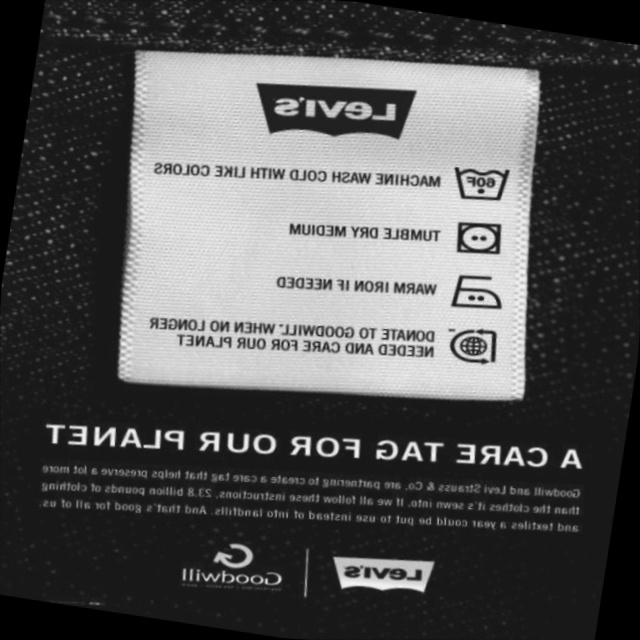30C: (442, 149, 519, 215)
iron_medium: (439, 260, 513, 324)
tumble_dry_medium: (445, 211, 513, 268)
